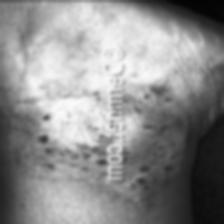Non-Cancerous Skin Condition: (5, 45, 100, 194), (128, 66, 188, 224)
